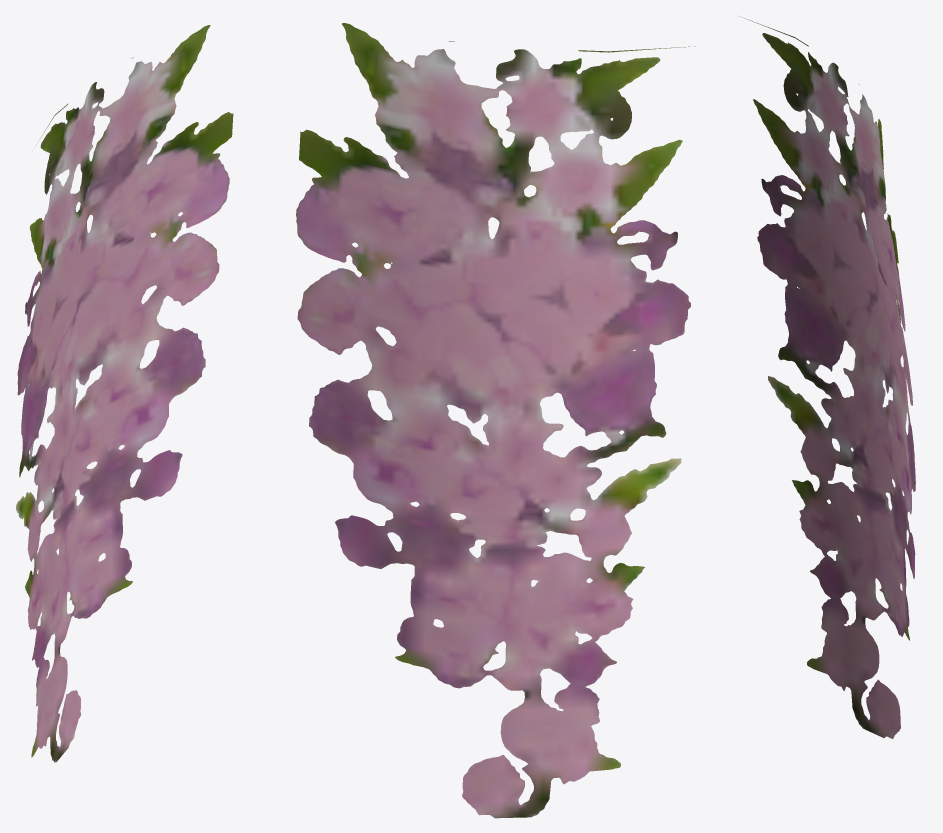
File: liemo_plant_10 (21).fbx
3 views of the same model, side by side, from view 1: azimuth 30°, elevation 25°; view 2: azimuth 150°, elevation 25°; view 3: azimuth 270°, elevation 25° (orthographic). The views are drawn at different scales.
Visible parts, largest first — view 1: liemo_plant_10 (21); view 2: liemo_plant_10 (21); view 3: liemo_plant_10 (21).
Part boxes in pixels (<box>): liemo_plant_10 (21): <box>16,25,233,762</box>; liemo_plant_10 (21): <box>296,23,695,818</box>; liemo_plant_10 (21): <box>742,17,915,738</box>.
Bounding box in the file's own units: 0.7965 × 1.77 × 0.455.
